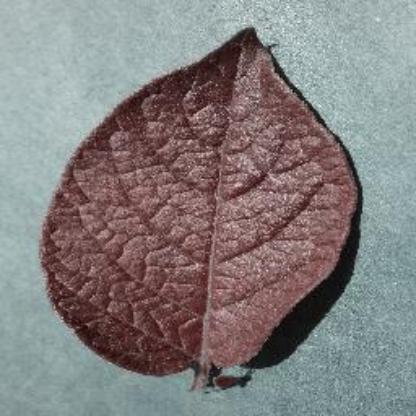Healthy-plant: (34, 20, 356, 404)
